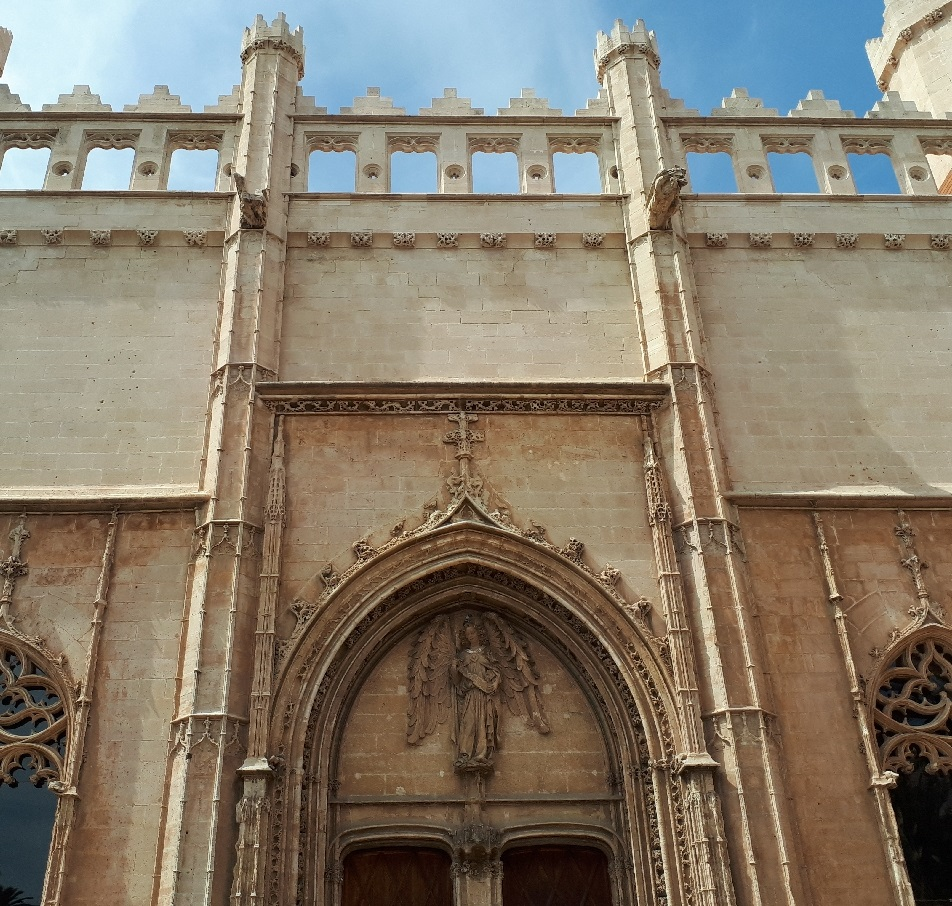arco-conopial: (369, 488, 566, 559)
arco-trilobulado: (299, 551, 658, 782)
